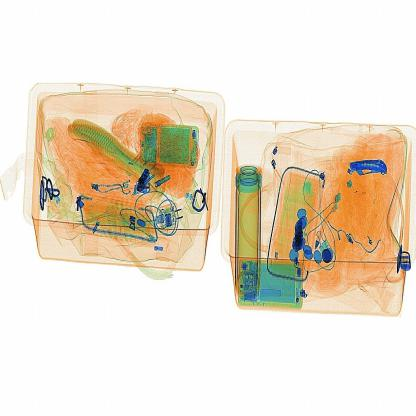knife: (344, 154, 393, 192)
